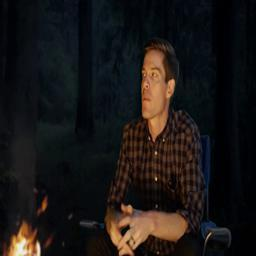fire: (7, 197, 48, 256)
